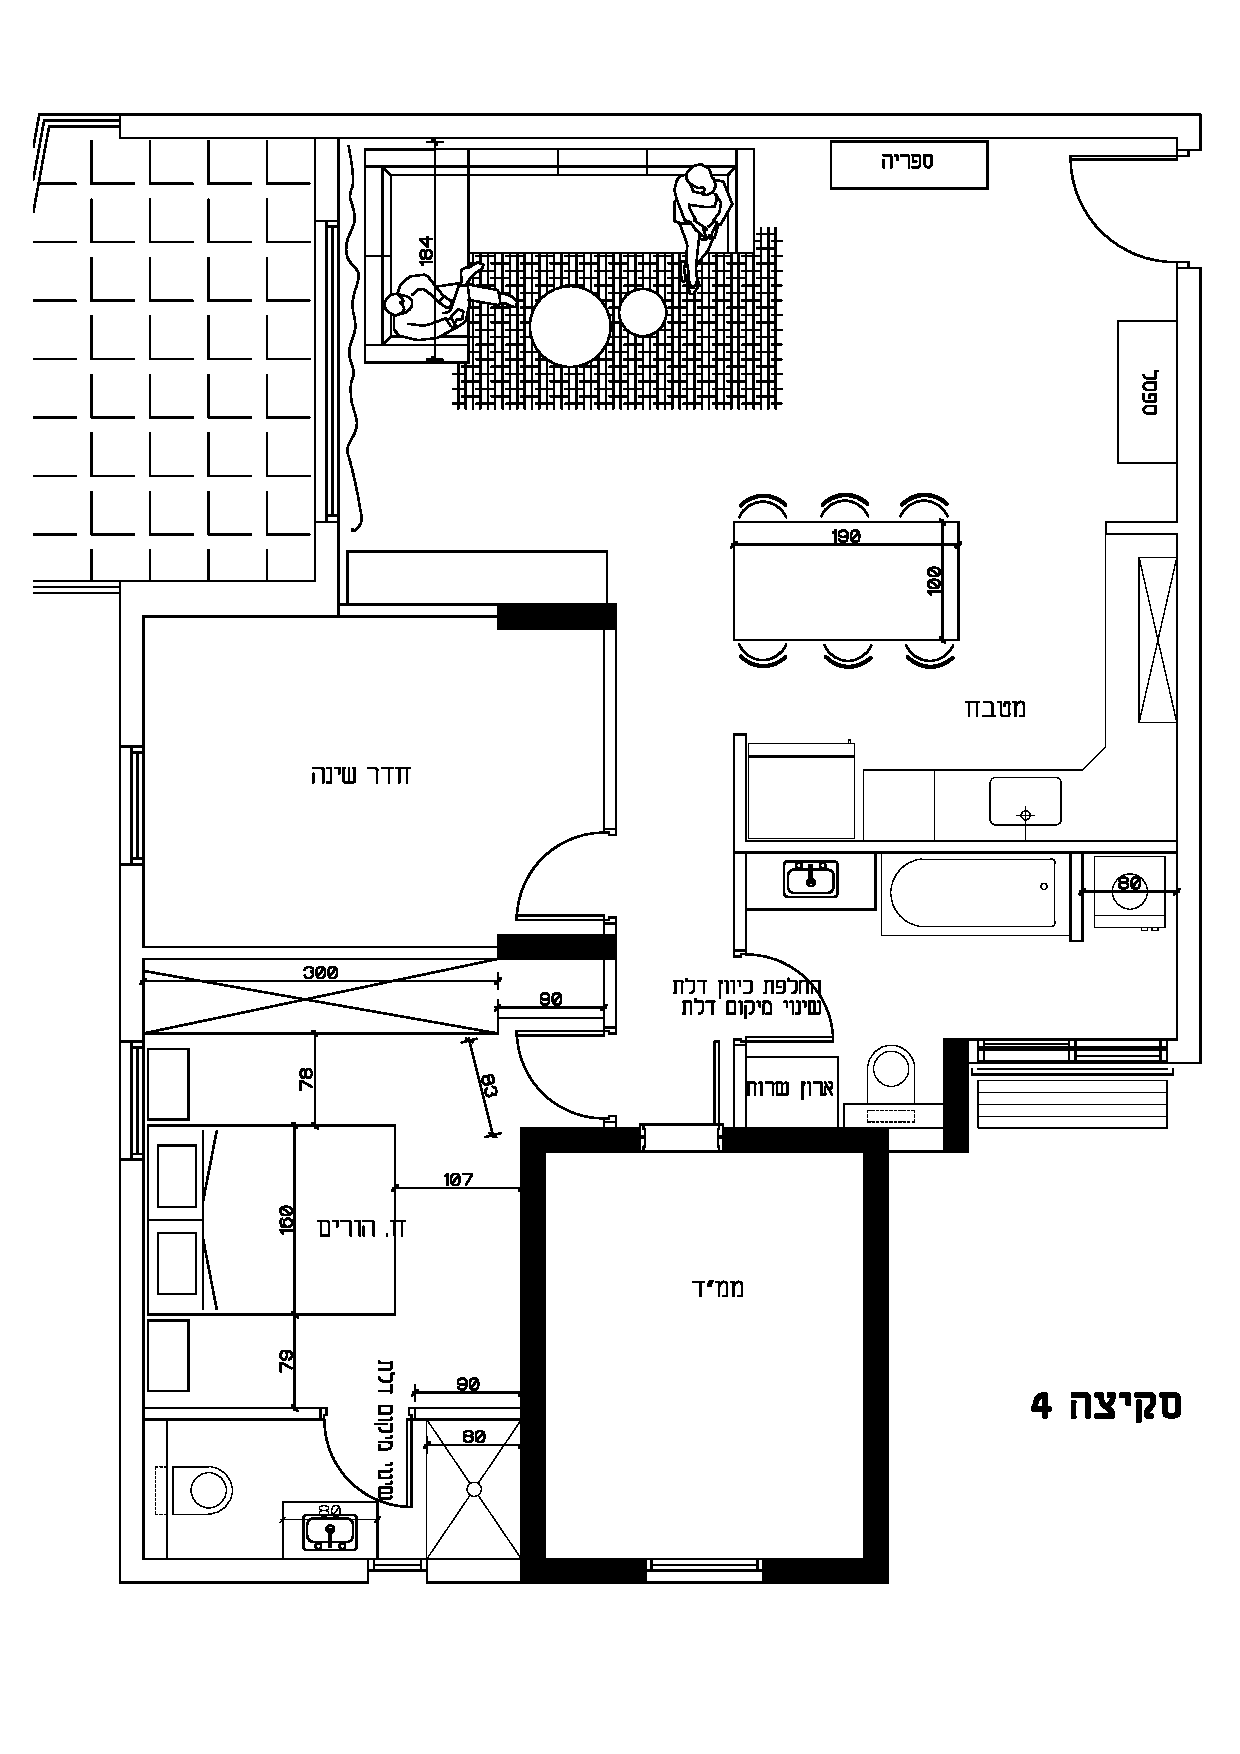door: (486, 808, 599, 929), (1060, 148, 1166, 272), (507, 1024, 599, 1122)
wall: (769, 1173, 993, 1664), (519, 1121, 636, 1621), (864, 1129, 888, 1585), (523, 1131, 544, 1585), (727, 1129, 862, 1153), (499, 607, 612, 625), (945, 1041, 965, 1142)
window: (310, 215, 344, 527), (965, 1029, 1182, 1070), (105, 1035, 148, 1164), (113, 742, 152, 871), (643, 1553, 766, 1586), (365, 1555, 429, 1590)
